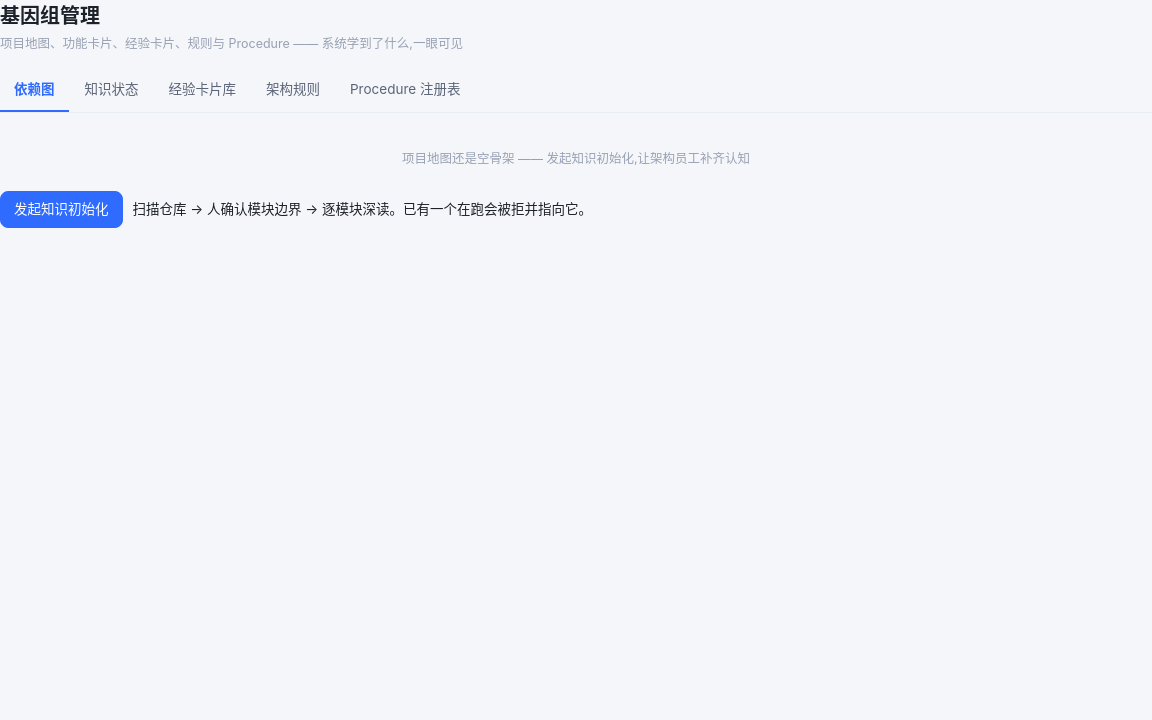
Test: 知识初始化入口 › shows the 409 verbatim when one is already running
Click the button "知识状态" at (112, 91), box [70, 70, 152, 112]
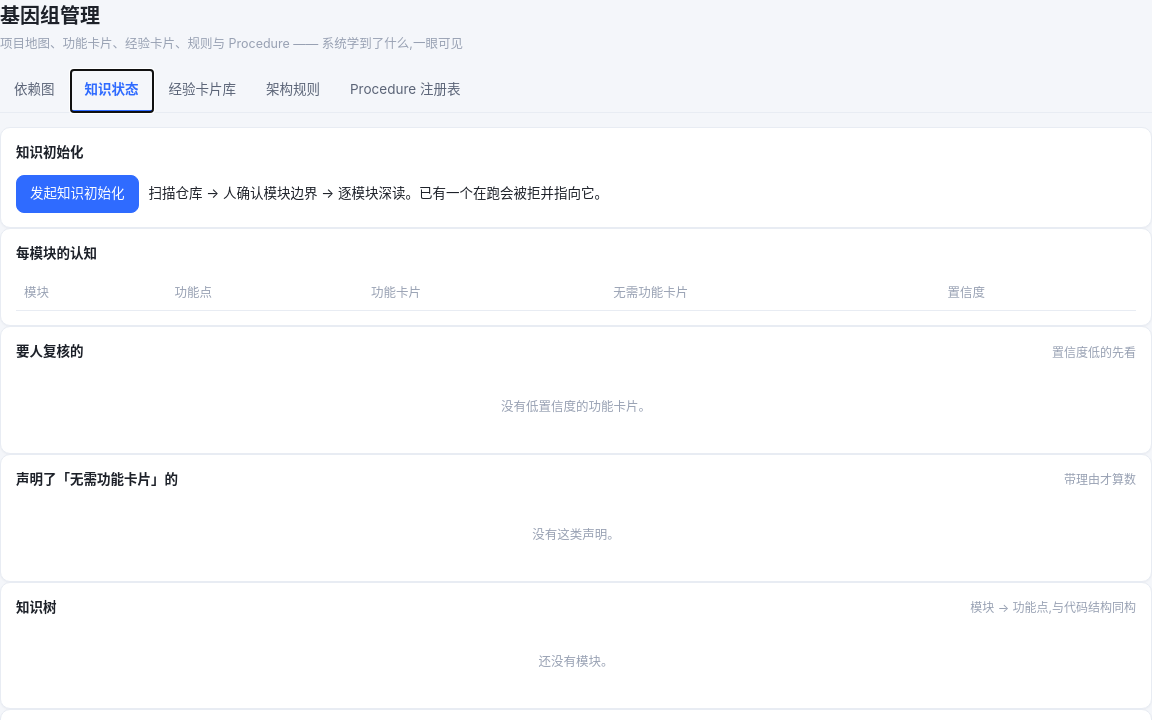
Click the button "发起知识初始化" at (77, 194), box [16, 175, 138, 213]
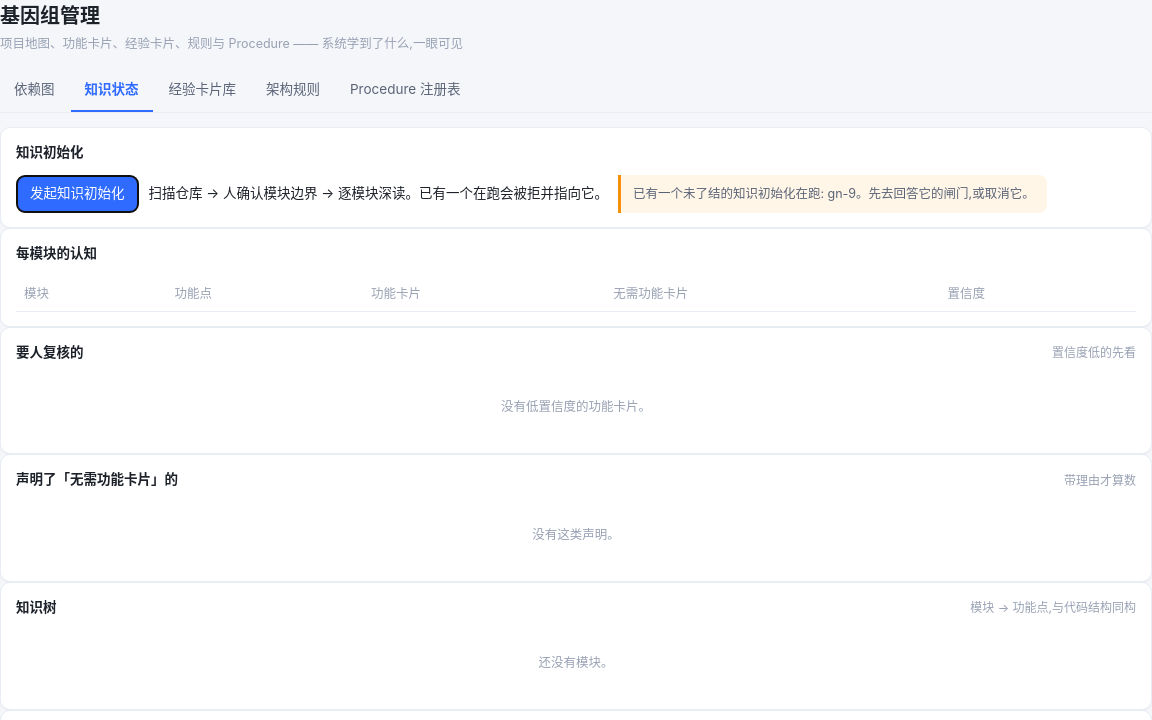
Expected: the text "已有一个未了结的知识初始化在跑: gn-9。先去回答它的闸门,或取消它。" is shown, [618, 175, 1047, 213]
